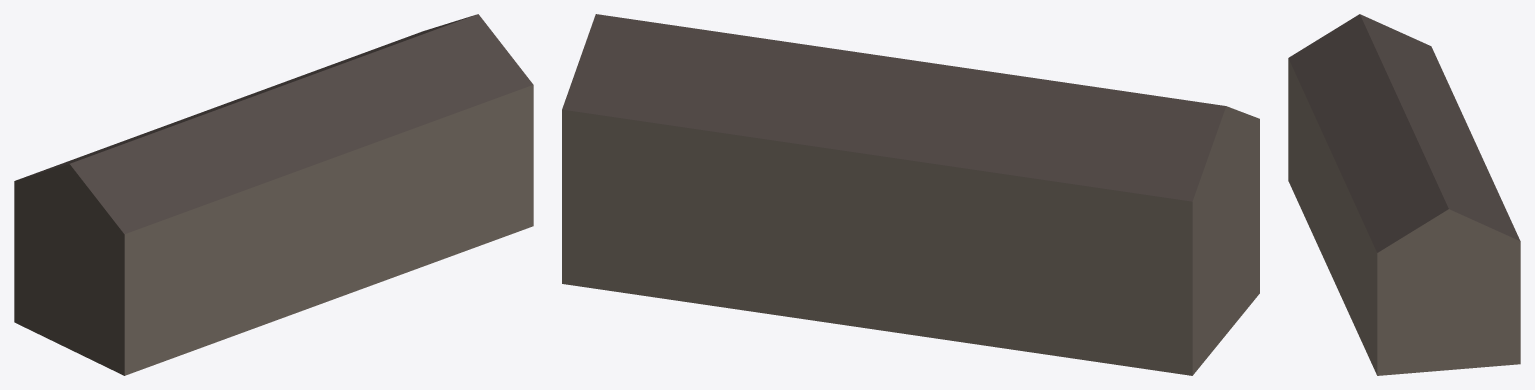
3 views of the same model, side by side, from view 1: azimuth 30°, elevation 25°; view 2: azimuth 150°, elevation 25°; view 3: azimuth 270°, elevation 25° (orthographic). The views are drawn at different scales.
Parts seen in each view (by area): view 1: HP-w1217015641; view 2: HP-w1217015641; view 3: HP-w1217015641.
Part boxes in pixels (bbox=[...]): HP-w1217015641: bbox=[14, 14, 533, 375]; HP-w1217015641: bbox=[562, 14, 1259, 375]; HP-w1217015641: bbox=[1288, 14, 1520, 375].
Size of the model in its own units: 21.66 by 7.86 by 10.28.
